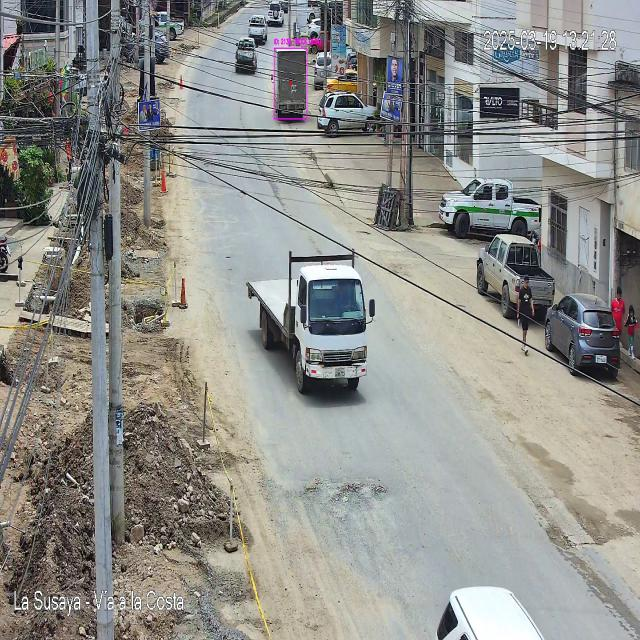TRUCK: (248, 254, 374, 405)
